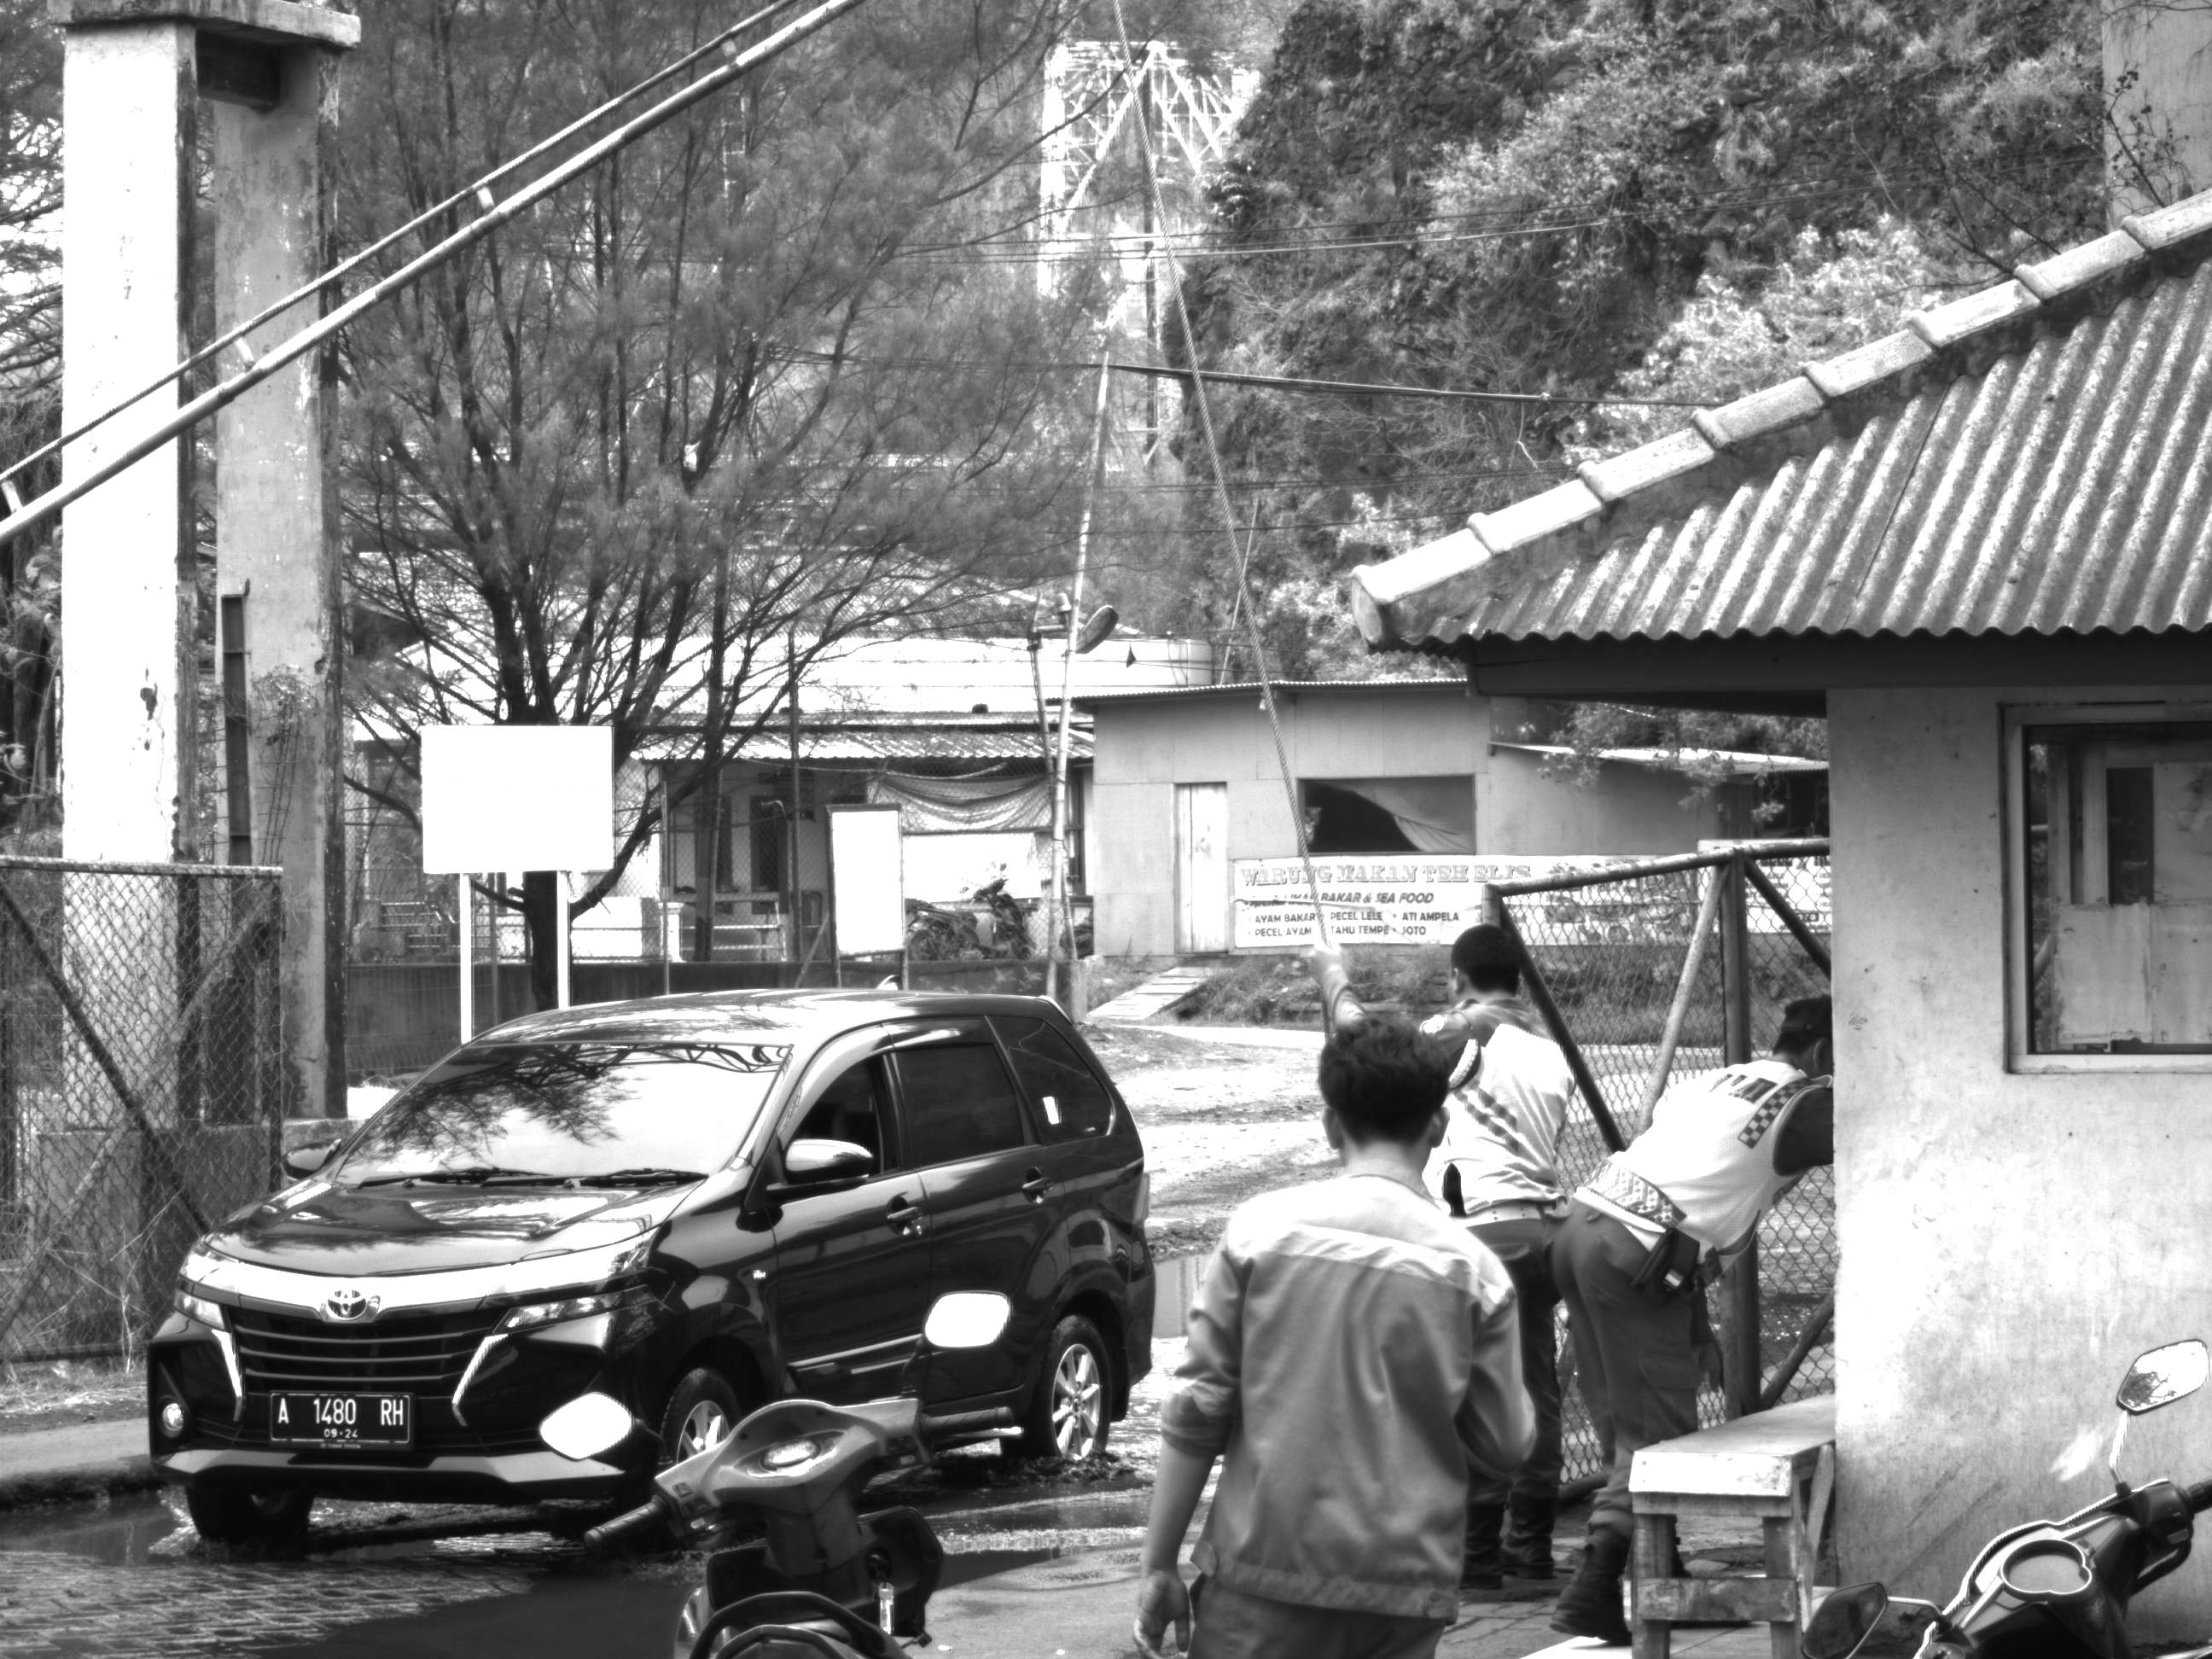day_small_front: (130, 1003, 848, 1559)
plate: (271, 1388, 415, 1452)
